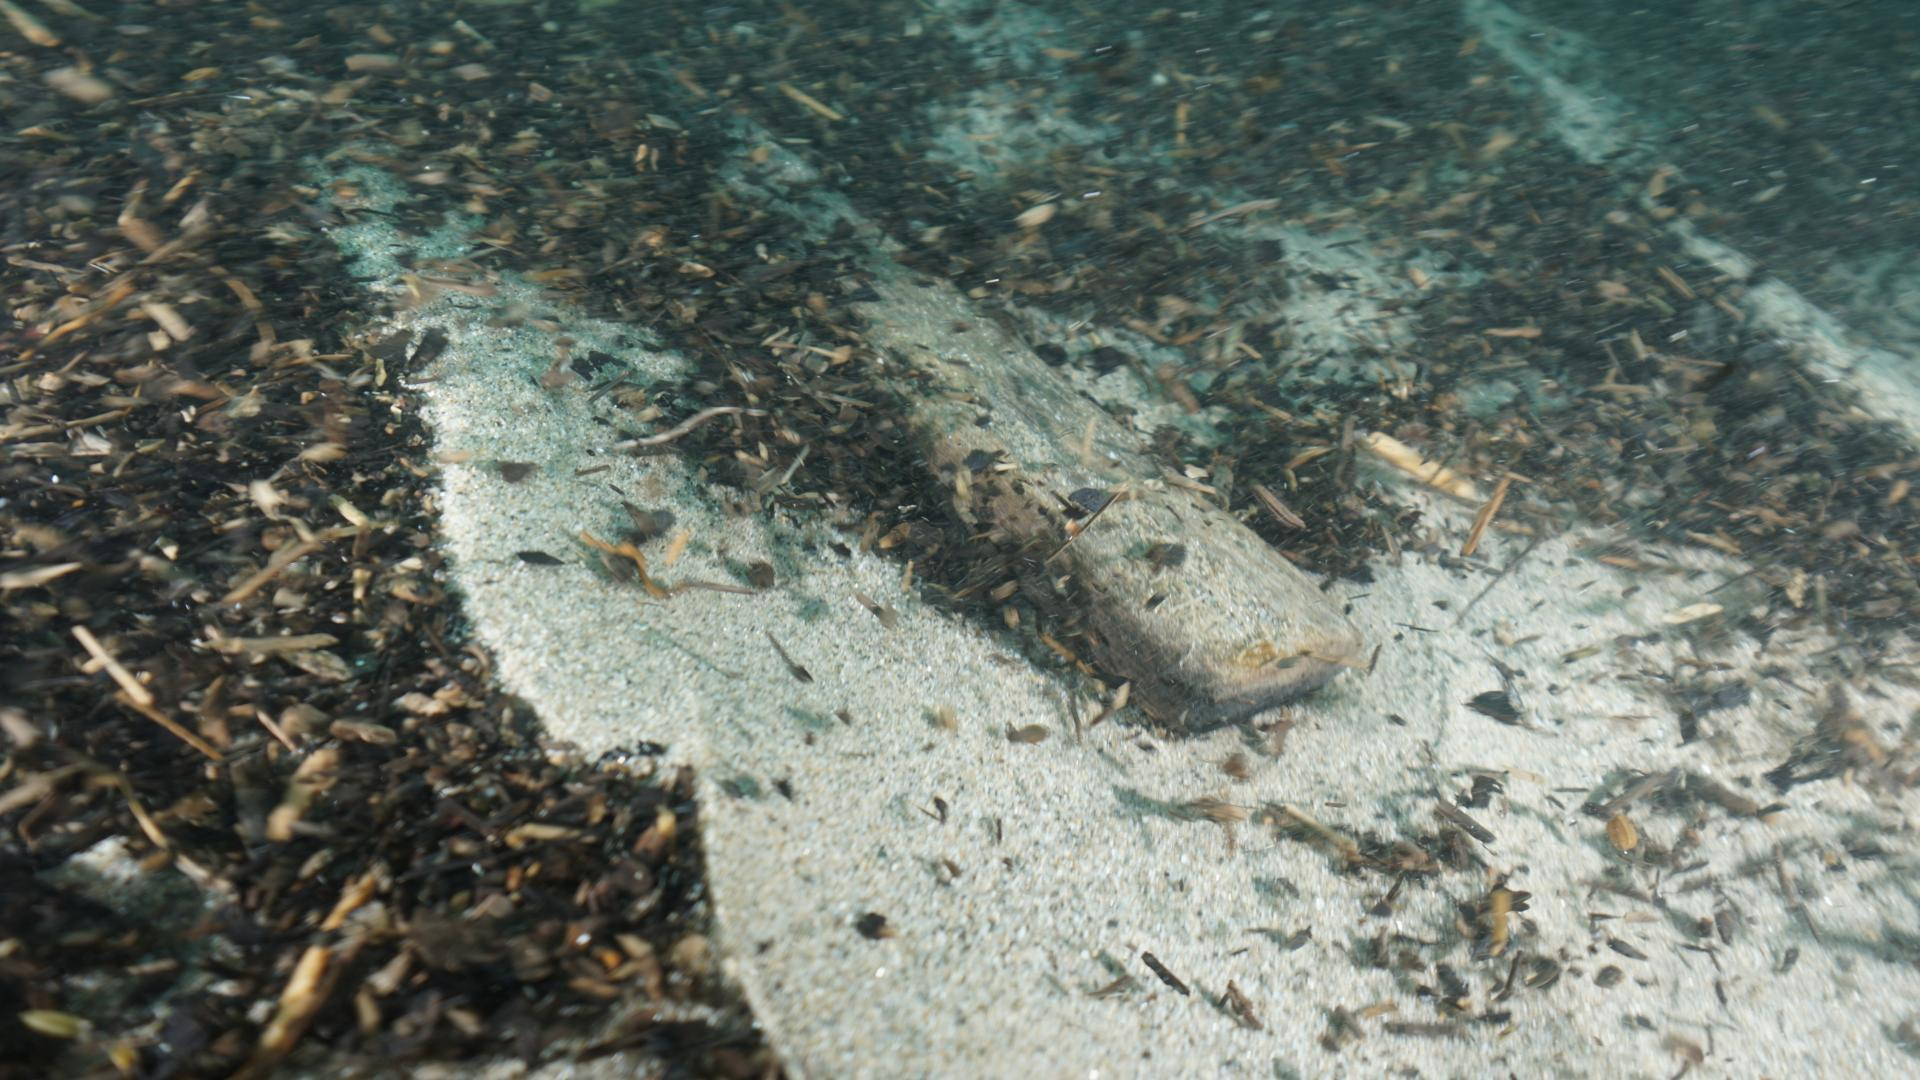wood: (690, 99, 1360, 740)
